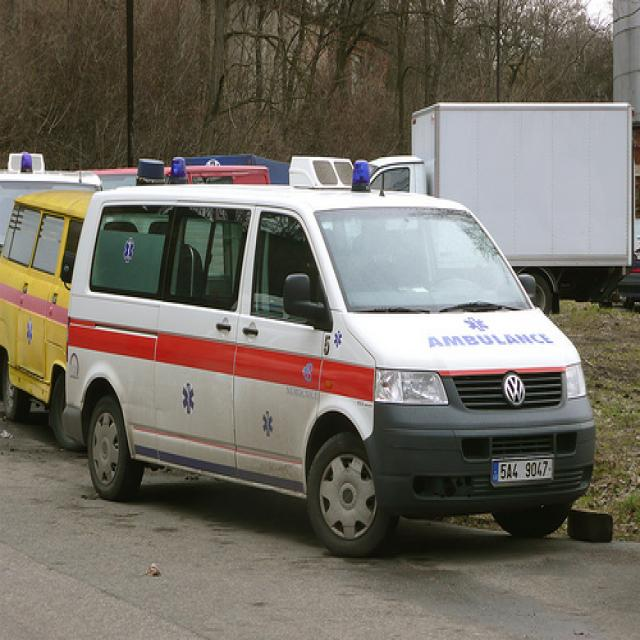emergency-vehicle: (64, 170, 590, 566)
